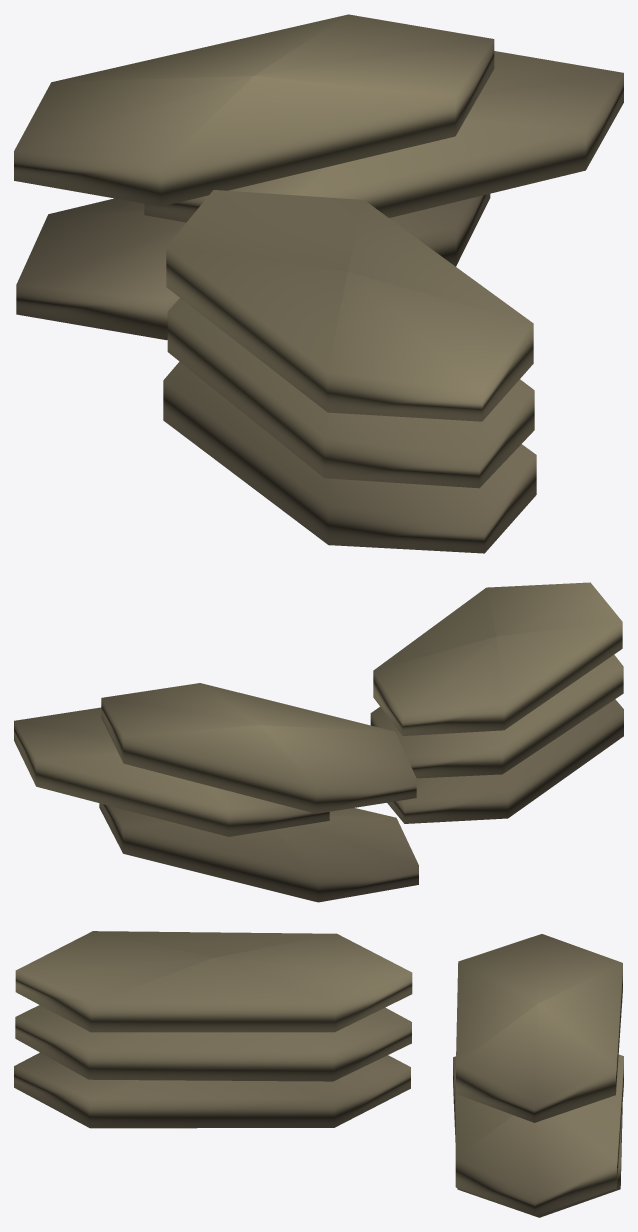
The model's file is m01_prop_sandbag_corner_lod1.glb.
3 views of the same model, one above another, from view 1: azimuth 30°, elevation 25°; view 2: azimuth 150°, elevation 25°; view 3: azimuth 270°, elevation 25° (orthographic). The views are drawn at different scales.
Parts seen in each view (by area): view 1: sandbag_corner; view 2: sandbag_corner; view 3: sandbag_corner.
Part boxes in pixels (box(x1,y1,x2,y2)): sandbag_corner: box(14, 14, 623, 553); sandbag_corner: box(14, 582, 623, 902); sandbag_corner: box(14, 931, 623, 1217).
Size of the model in its own units: 1.4 by 0.44 by 1.69.
